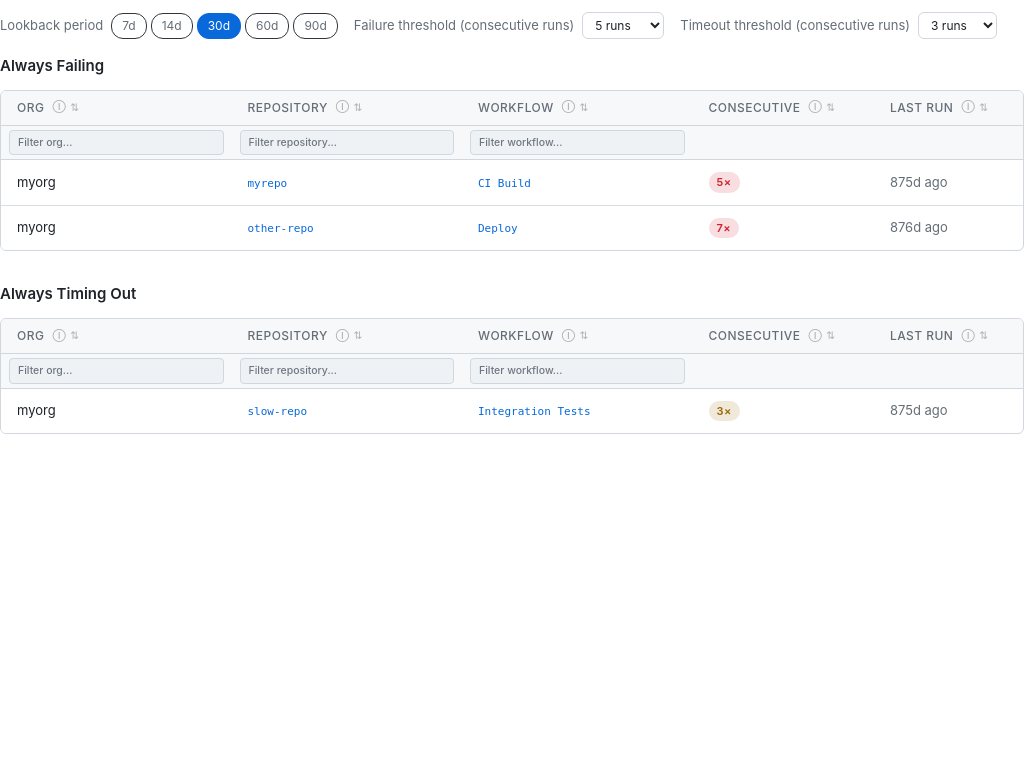
Test case: WorkflowMetricsTab — With Data › opens detail drawer on row click
Click the text "CI Build" at (512, 183), box 1,160 -> 1023,205
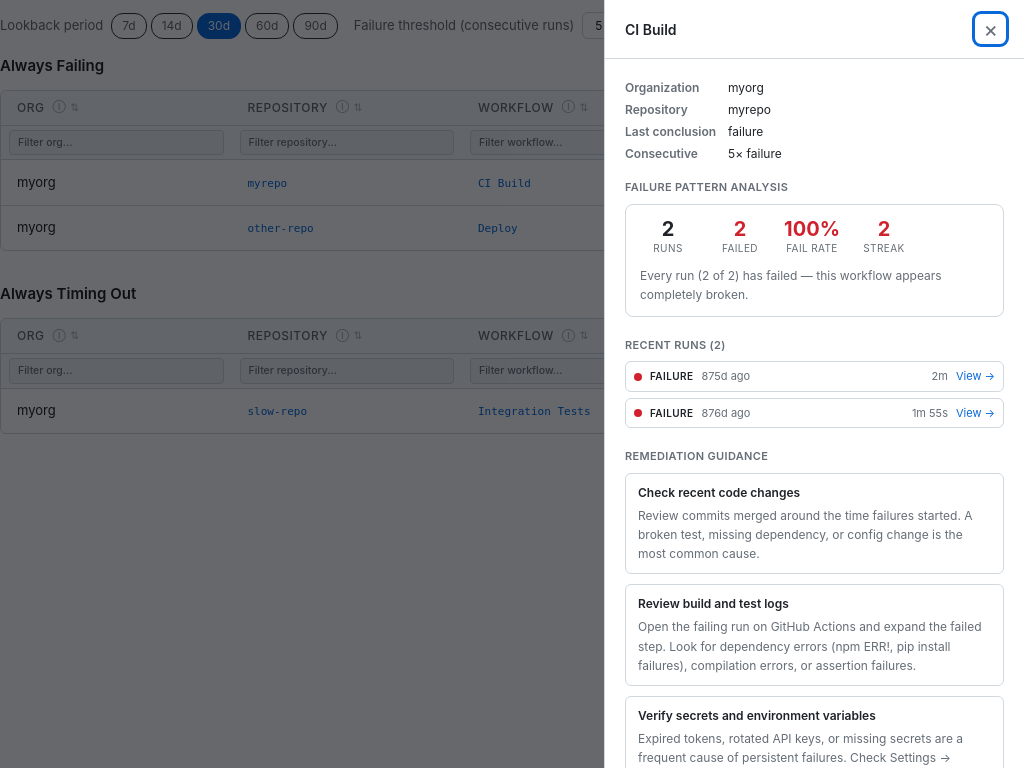
Expected: the text "Failure Pattern Analysis" is shown, 625,180 -> 788,194
